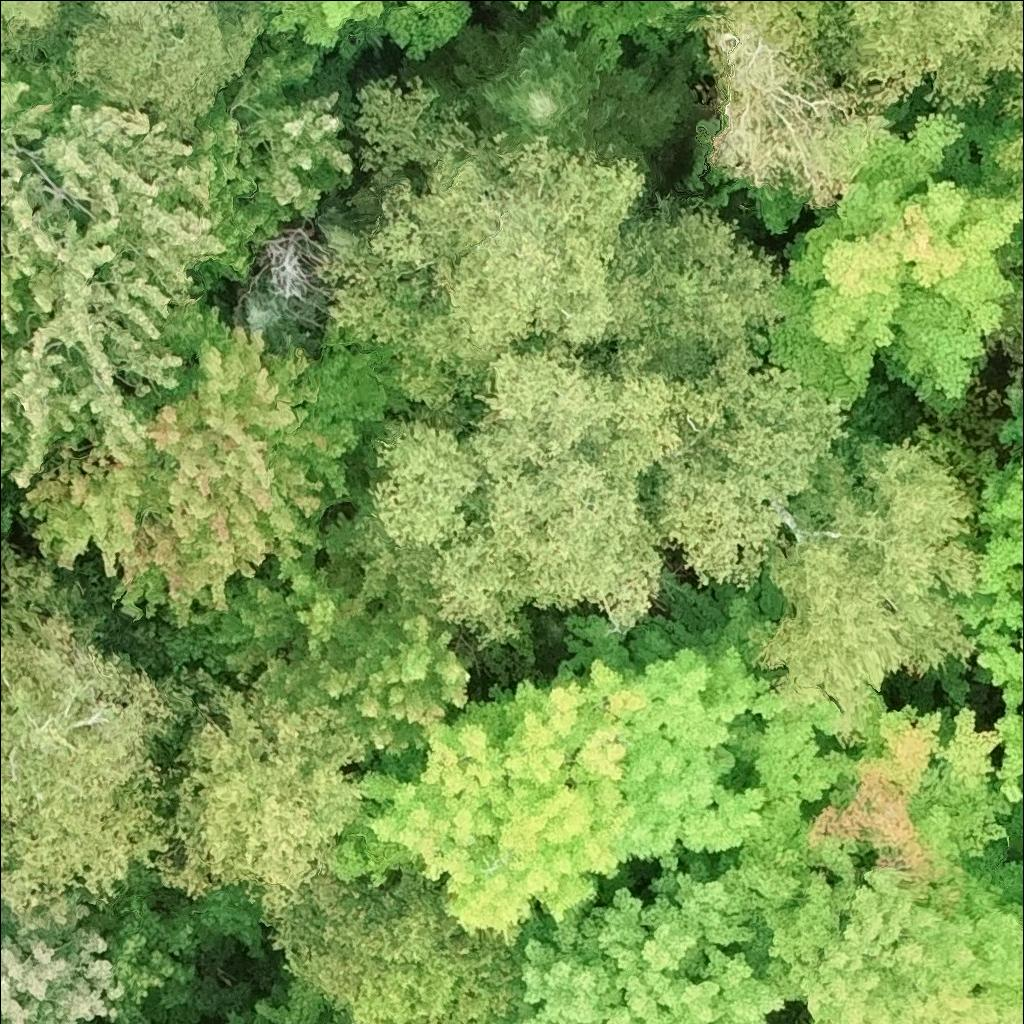crown: (0, 39, 295, 493), (399, 334, 765, 658), (17, 323, 405, 626), (319, 79, 645, 411), (335, 608, 656, 943), (737, 688, 1023, 1023), (750, 97, 1023, 421), (164, 516, 475, 771), (748, 424, 987, 748), (0, 580, 221, 923), (619, 572, 857, 862), (396, 1, 697, 183), (157, 680, 369, 934), (510, 842, 791, 1023), (691, 0, 918, 217), (648, 360, 859, 590), (0, 0, 287, 141), (273, 877, 525, 1023), (946, 390, 1023, 807), (611, 196, 786, 373), (757, 0, 1023, 109), (342, 399, 486, 594), (222, 35, 361, 229), (0, 899, 132, 1023), (101, 894, 204, 1023), (264, 0, 471, 60), (530, 0, 699, 67), (224, 284, 333, 355), (243, 222, 326, 296), (226, 979, 337, 1023), (980, 70, 1023, 180), (0, 547, 53, 623), (1007, 799, 1023, 856), (482, 0, 532, 12), (1006, 362, 1023, 396)
